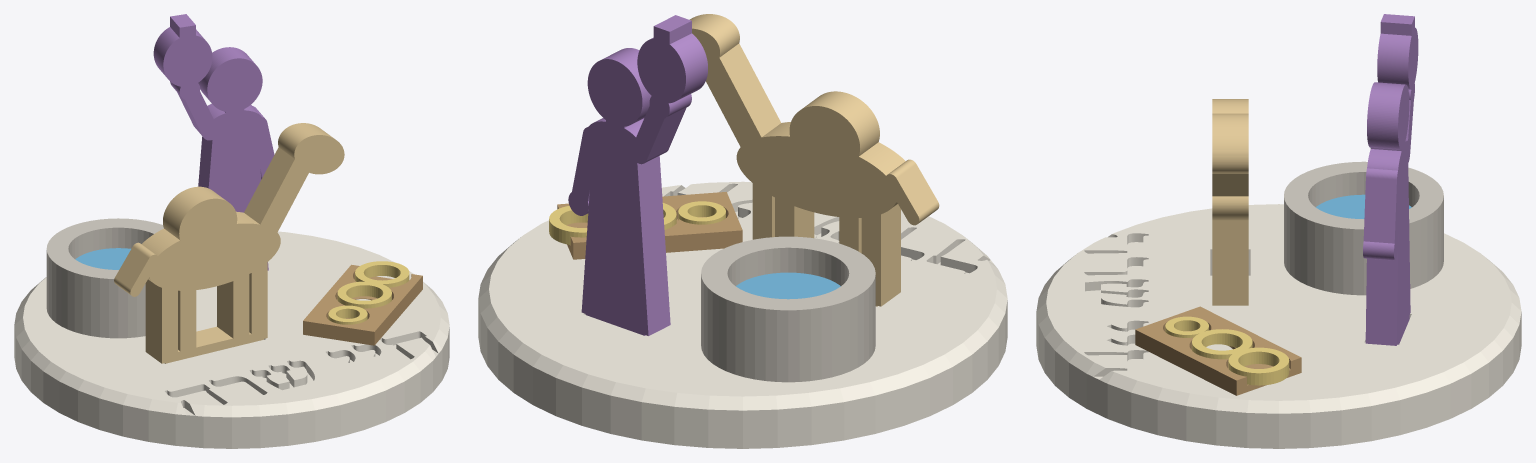
The model's file is chayei-sarah.glb.
3 views of the same model, side by side, from view 1: azimuth 30°, elevation 25°; view 2: azimuth 150°, elevation 25°; view 3: azimuth 270°, elevation 25° (orthographic). The views are drawn at different scales.
Visible parts, largest first — view 1: stage, camel, rivka, well, tray, bracelet-1, bracelet-2, water, nose-ring; view 2: stage, camel, rivka, well, tray, water, bracelet-2, nose-ring; view 3: stage, rivka, well, camel, tray, bracelet-2, bracelet-1, water, nose-ring.
Boxes of the visible parts, <box> form: stage: <box>14,231,449,448</box>; camel: <box>114,123,344,363</box>; rivka: <box>153,14,274,270</box>; well: <box>46,218,163,338</box>; tray: <box>303,264,422,345</box>; bracelet-1: <box>337,281,391,308</box>; bracelet-2: <box>355,261,409,287</box>; water: <box>75,248,130,269</box>; nose-ring: <box>328,305,367,324</box>; stage: <box>478,181,1007,448</box>; camel: <box>689,14,939,306</box>; rivka: <box>568,15,707,335</box>; well: <box>701,236,875,382</box>; tray: <box>557,192,742,259</box>; water: <box>736,272,840,299</box>; bracelet-2: <box>549,205,588,244</box>; nose-ring: <box>678,201,725,224</box>; stage: <box>1036,204,1521,448</box>; rivka: <box>1363,14,1418,345</box>; well: <box>1284,161,1443,295</box>; camel: <box>1212,99,1248,305</box>; tray: <box>1135,306,1301,395</box>; bracelet-2: <box>1228,347,1289,385</box>; bracelet-1: <box>1192,329,1252,366</box>; water: <box>1316,194,1411,218</box>; nose-ring: <box>1165,316,1208,337</box>.
Size of the model in its own units: 40 by 30 by 40.
